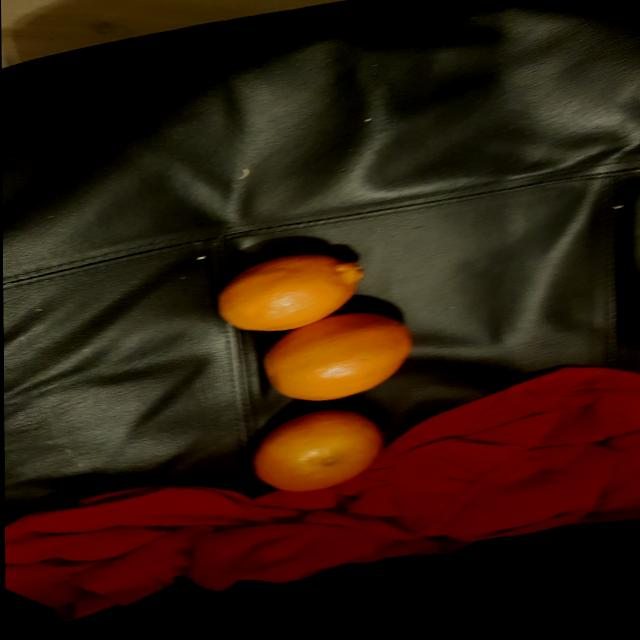Orange: (259, 324, 410, 412), (214, 263, 363, 341), (250, 421, 381, 502)
